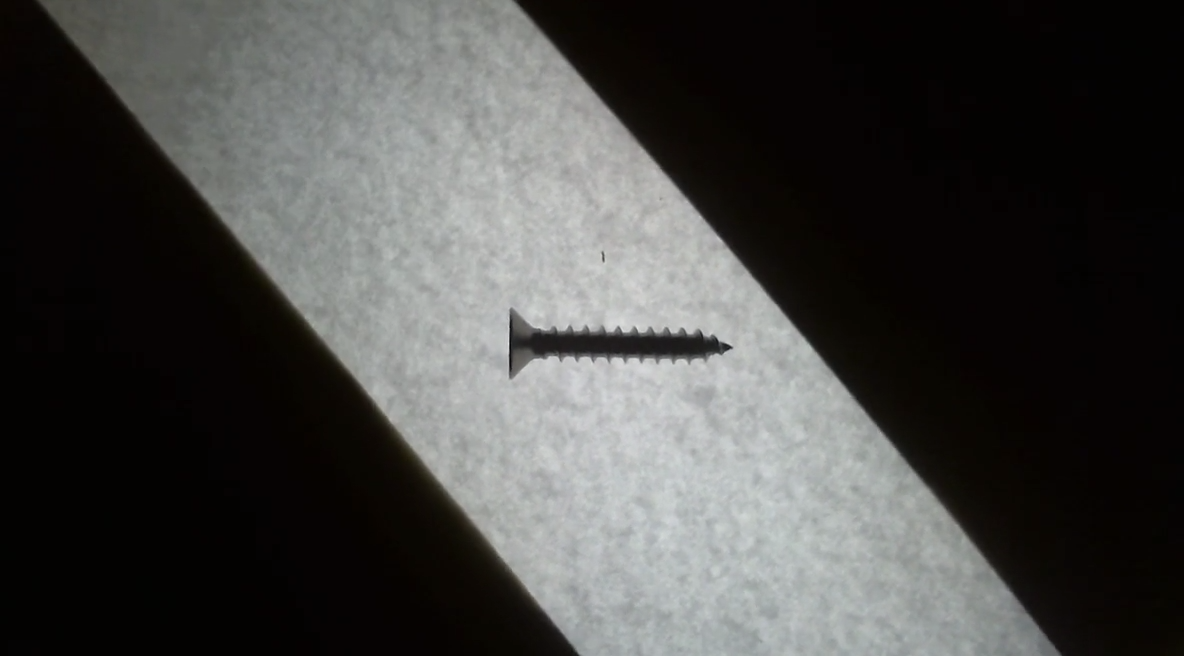S001: (481, 291, 743, 389)
